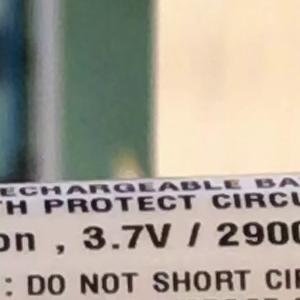keyword: (73, 213, 181, 260)
